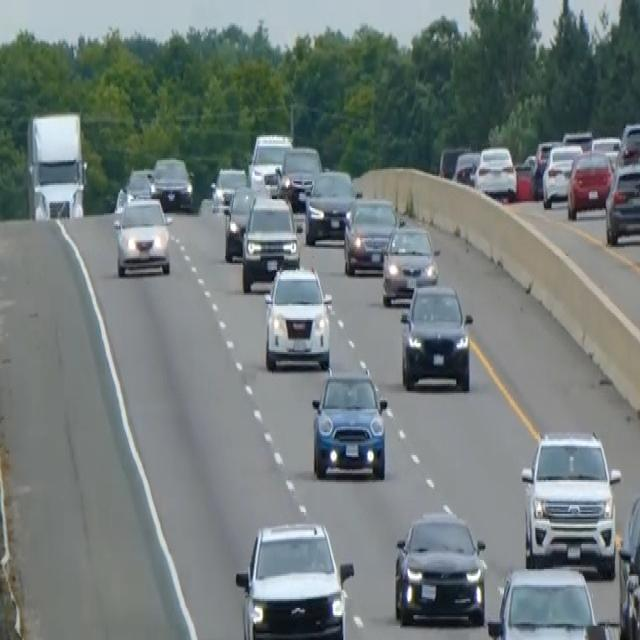car: (234, 519, 354, 638), (393, 508, 487, 628), (487, 564, 617, 638), (310, 368, 388, 480), (399, 281, 473, 391), (263, 262, 333, 372), (240, 194, 300, 292), (112, 194, 171, 277), (381, 222, 439, 306), (342, 194, 399, 274), (303, 167, 359, 245), (222, 182, 270, 262), (566, 148, 613, 218), (617, 489, 639, 638), (604, 158, 639, 245), (278, 144, 322, 208), (541, 142, 582, 208), (248, 132, 292, 192), (473, 144, 517, 201), (150, 154, 193, 210), (210, 164, 248, 214), (114, 167, 154, 212), (531, 138, 560, 196), (590, 133, 621, 169), (438, 144, 467, 180), (453, 149, 479, 187), (126, 165, 155, 198), (619, 119, 639, 160), (562, 128, 593, 153)
jeep: (519, 427, 621, 578)
lorry: (24, 107, 88, 220)
